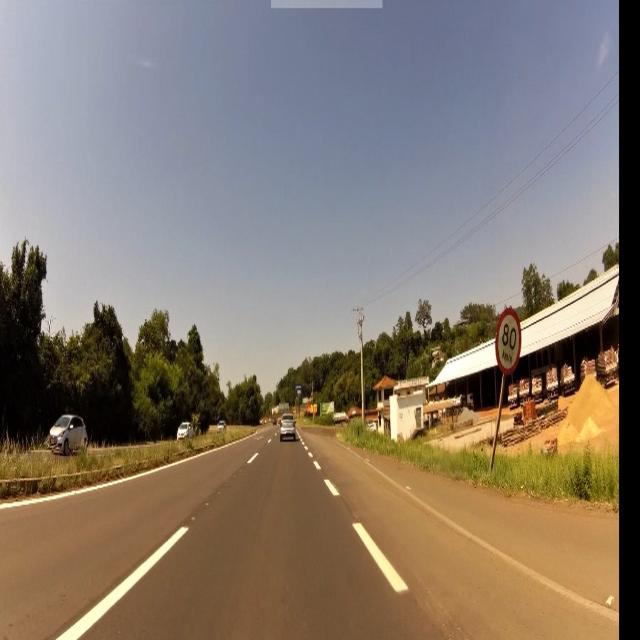R-19: (497, 310, 520, 372)
